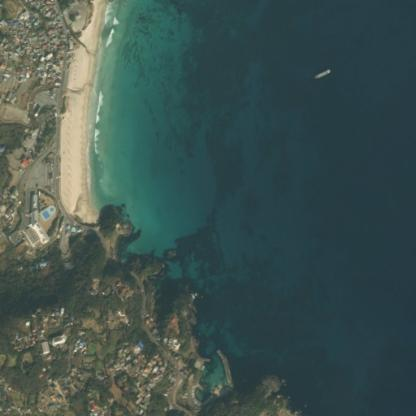ship: (306, 58, 336, 87)
